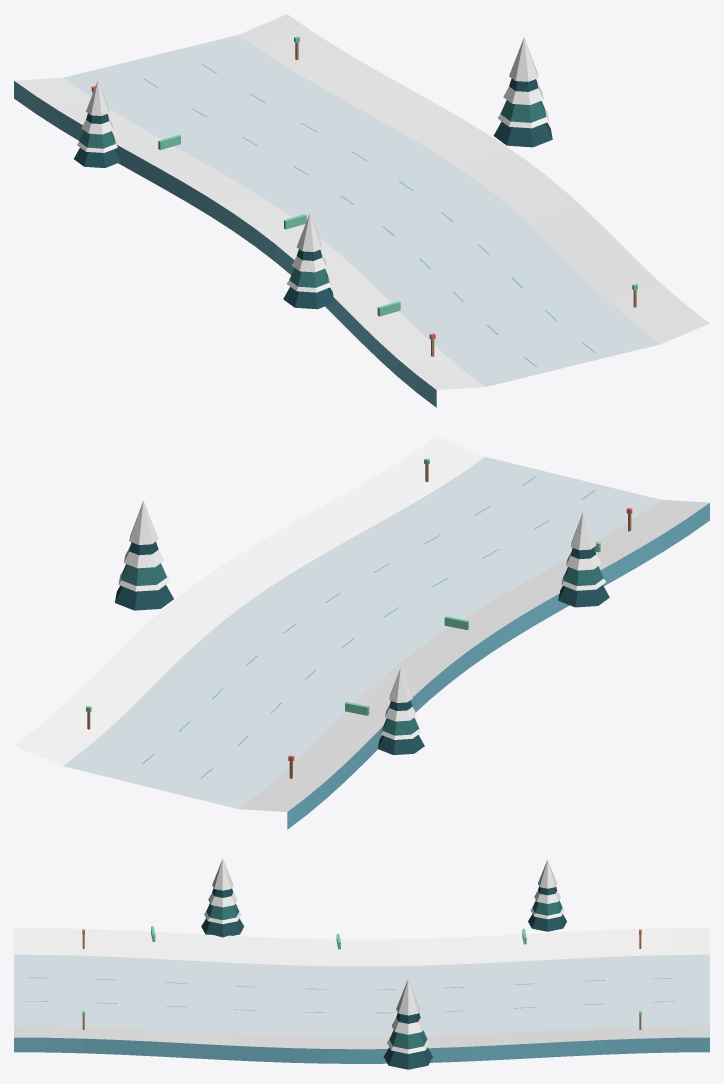
The model's file is gentle_turn.glb.
3 views of the same model, one above another, from view 1: azimuth 30°, elevation 25°; view 2: azimuth 150°, elevation 25°; view 3: azimuth 270°, elevation 25° (orthographic). The views are drawn at different scales.
Visible parts, largest first — view 1: Tile_gentle_turn; view 2: Tile_gentle_turn; view 3: Tile_gentle_turn.
Part boxes in pixels (x1=…): Tile_gentle_turn: x1=14, y1=14, x2=709, y2=407; Tile_gentle_turn: x1=14, y1=436, x2=709, y2=829; Tile_gentle_turn: x1=14, y1=858, x2=709, y2=1069.
Bounding box in the file's own units: 15.87 × 4.54 × 30.
